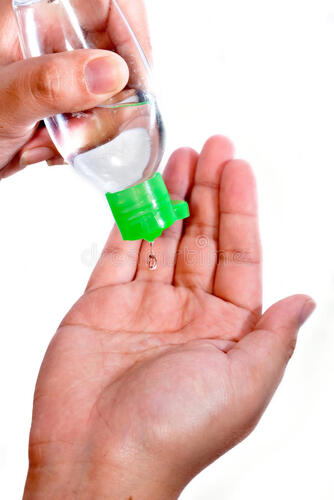sanitizer: (10, 1, 191, 248)
